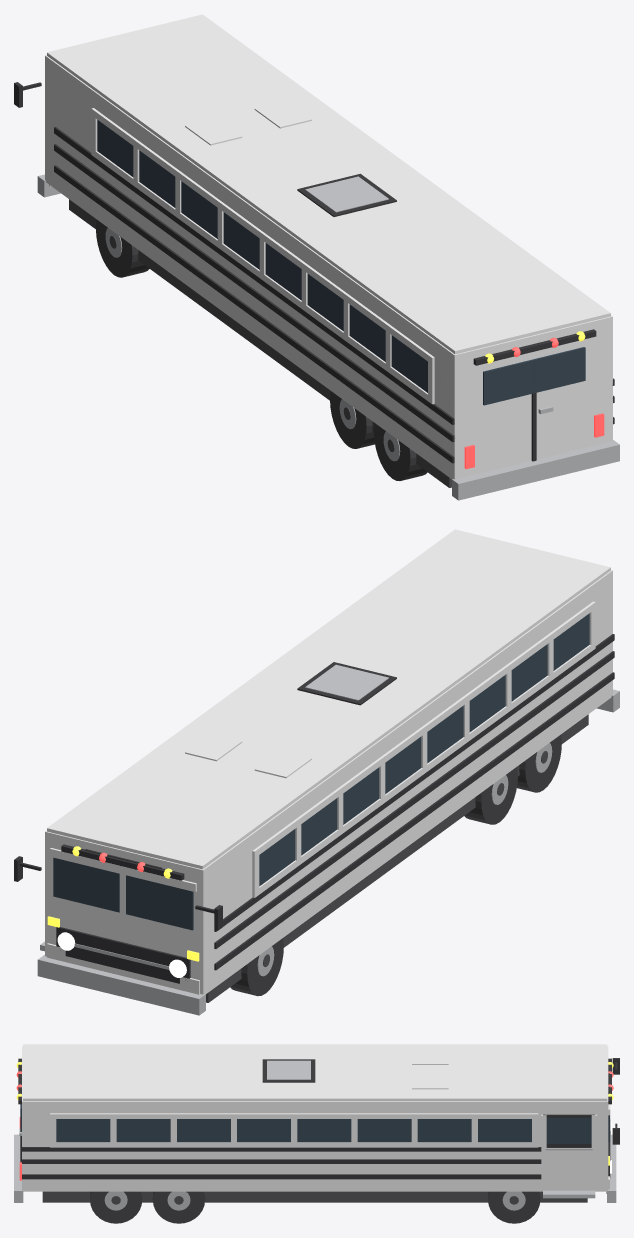
File: bus.glb
3 renders of one model, top to bottom at view 1: azimuth 30°, elevation 25°; view 2: azimuth 150°, elevation 25°; view 3: azimuth 270°, elevation 25°, orthographic. The views are drawn at different scales.
Parts seen in each view (by area): view 1: RoofCap, BodyMain, GlassBand_L, RearBumper, RearWindow, RubRail_L_0, RubRail_L_1, BandHeader_L, Chassis, BandSill_L, RubRail_L_2, RoofHatch (+7 smaller); view 2: RoofCap, BodyMain, GlassBand_L, FrontBumper, RubRail_L_0, RubRail_L_1, BandHeader_L, Chassis, BandSill_L, Windshield_L, Grille, Windshield_R (+11 smaller); view 3: RoofCap, BodyMain, GlassBand_R, Chassis, RubRail_R_0, BandHeader_R, BandSill_R, RubRail_R_2, RubRail_R_1, DoorPanel, DoorGlass, Tire_R_0 (+15 smaller).
Part boxes in pixels (x1,y1,x2,y2): RoofCap: (47, 14, 610, 354); BodyMain: (45, 55, 612, 479); GlassBand_L: (97, 120, 427, 392); RearBumper: (452, 440, 619, 500); RearWindow: (483, 347, 585, 405); RubRail_L_0: (54, 165, 454, 463); RubRail_L_1: (54, 144, 454, 442); BandHeader_L: (91, 108, 434, 364); Chassis: (69, 199, 451, 487); BandSill_L: (91, 149, 434, 404); RubRail_L_2: (54, 127, 454, 424); RoofHatch: (305, 176, 388, 212); RoofCap: (47, 529, 610, 869); BodyMain: (45, 570, 612, 994); GlassBand_L: (259, 613, 589, 886); FrontBumper: (37, 955, 205, 1015); RubRail_L_0: (214, 672, 614, 970); RubRail_L_1: (214, 651, 614, 948); BandHeader_L: (252, 601, 595, 856); Chassis: (206, 714, 588, 1002); BandSill_L: (252, 644, 595, 897); Windshield_L: (126, 875, 193, 930); Grille: (65, 928, 180, 983); Windshield_R: (53, 857, 119, 912); RoofCap: (23, 1044, 607, 1100); BodyMain: (22, 1046, 608, 1191); GlassBand_R: (56, 1119, 531, 1142); Chassis: (42, 1191, 587, 1202); RubRail_R_0: (22, 1174, 541, 1179); BandHeader_R: (50, 1113, 538, 1118); BandSill_R: (50, 1142, 538, 1147); RubRail_R_2: (22, 1147, 591, 1151); RubRail_R_1: (22, 1159, 541, 1163); DoorPanel: (546, 1150, 591, 1190); DoorGlass: (546, 1117, 591, 1143); Tire_R_0: (488, 1191, 540, 1223).
Size of the model in its own units: 3.22 by 2.68 by 11.57.
